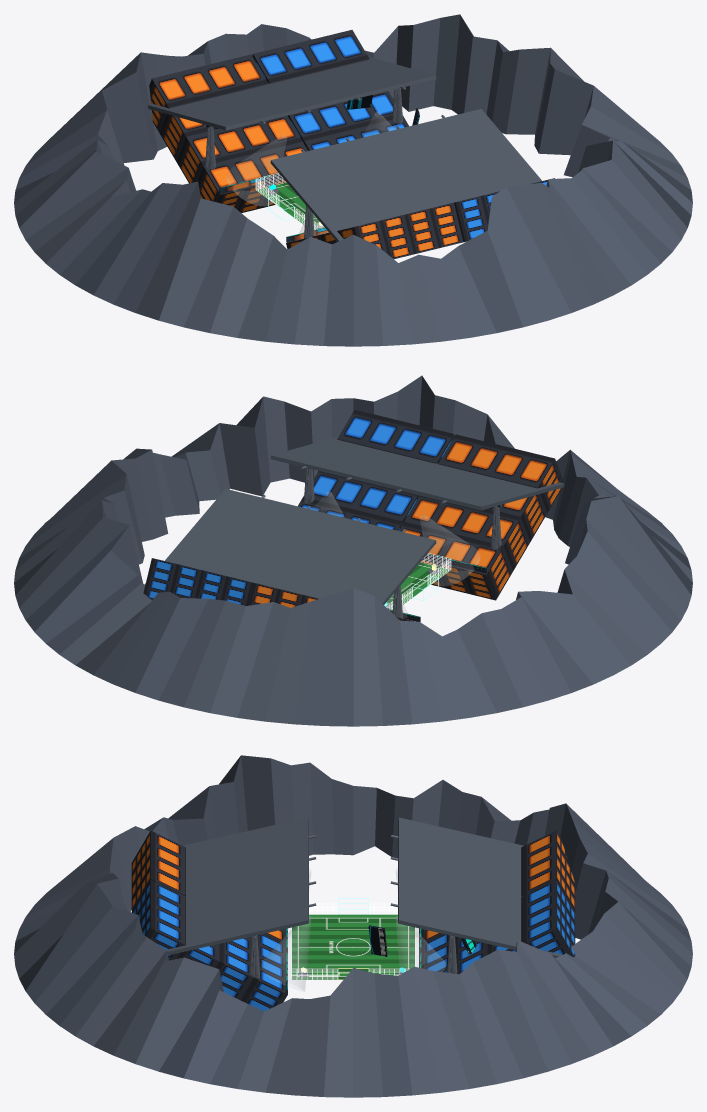
The model's file is SunsetStadiumArena.fbx.
The picture shows the model from 3 angles, top to bottom: view 1: azimuth 30°, elevation 25°; view 2: azimuth 150°, elevation 25°; view 3: azimuth 270°, elevation 25°; orthographic projection.
Parts seen in each view (by area): view 1: Surrounding_Mountain_Ridge, SouthStand_CanopyRoof, NorthStand_Seats_Orange, NorthStand_CanopyRoof, NorthStand_Seats_Blue, SouthStand_Seats_Orange, Tower_LightBeam_NW, SouthStand_Seats_Blue, Playable_Turf, Wireframe_Cage_Barrier; view 2: Surrounding_Mountain_Ridge, NorthStand_CanopyRoof, SouthStand_Seats_Orange, SouthStand_CanopyRoof, SouthStand_Seats_Blue, NorthStand_Seats_Blue, Tower_LightBeam_SW, NorthStand_Seats_Orange, Playable_Turf, Wireframe_Cage_Barrier; view 3: Surrounding_Mountain_Ridge, SouthStand_CanopyRoof, NorthStand_CanopyRoof, SouthStand_Seats_Blue, Playable_Turf, NorthStand_Seats_Blue, SouthStand_Seats_Orange, NorthStand_Seats_Orange, Tower_LightBeam_SE, Tower_LightBeam_NE, Wireframe_Cage_Barrier.
Boxes of the visible parts, x1,y1,x2,y2 form: Surrounding_Mountain_Ridge: [14, 14, 692, 346]; SouthStand_CanopyRoof: [270, 109, 541, 241]; NorthStand_Seats_Orange: [149, 54, 307, 212]; NorthStand_CanopyRoof: [148, 56, 436, 130]; NorthStand_Seats_Blue: [252, 30, 408, 150]; SouthStand_Seats_Orange: [286, 203, 463, 259]; Tower_LightBeam_NW: [227, 135, 286, 205]; SouthStand_Seats_Blue: [447, 178, 555, 242]; Playable_Turf: [257, 182, 319, 229]; Wireframe_Cage_Barrier: [255, 173, 325, 233]; Surrounding_Mountain_Ridge: [14, 375, 692, 726]; NorthStand_CanopyRoof: [145, 489, 436, 604]; SouthStand_Seats_Orange: [399, 434, 563, 600]; SouthStand_CanopyRoof: [270, 436, 564, 510]; SouthStand_Seats_Blue: [298, 410, 454, 530]; NorthStand_Seats_Blue: [143, 558, 259, 605]; Tower_LightBeam_SW: [420, 515, 479, 585]; NorthStand_Seats_Orange: [247, 582, 413, 621]; Playable_Turf: [387, 562, 450, 609]; Wireframe_Cage_Barrier: [384, 553, 451, 609]; Surrounding_Mountain_Ridge: [14, 755, 692, 1097]; SouthStand_CanopyRoof: [166, 817, 308, 955]; NorthStand_CanopyRoof: [398, 817, 562, 957]; SouthStand_Seats_Blue: [131, 880, 287, 1011]; Playable_Turf: [292, 914, 414, 979]; NorthStand_Seats_Blue: [419, 880, 575, 974]; SouthStand_Seats_Orange: [131, 830, 287, 945]; NorthStand_Seats_Orange: [419, 830, 575, 945]; Tower_LightBeam_SE: [261, 916, 311, 991]; Tower_LightBeam_NE: [395, 916, 445, 973]; Wireframe_Cage_Barrier: [291, 903, 415, 979].
Bounding box in the file's own units: 1320 × 266 × 1320.
